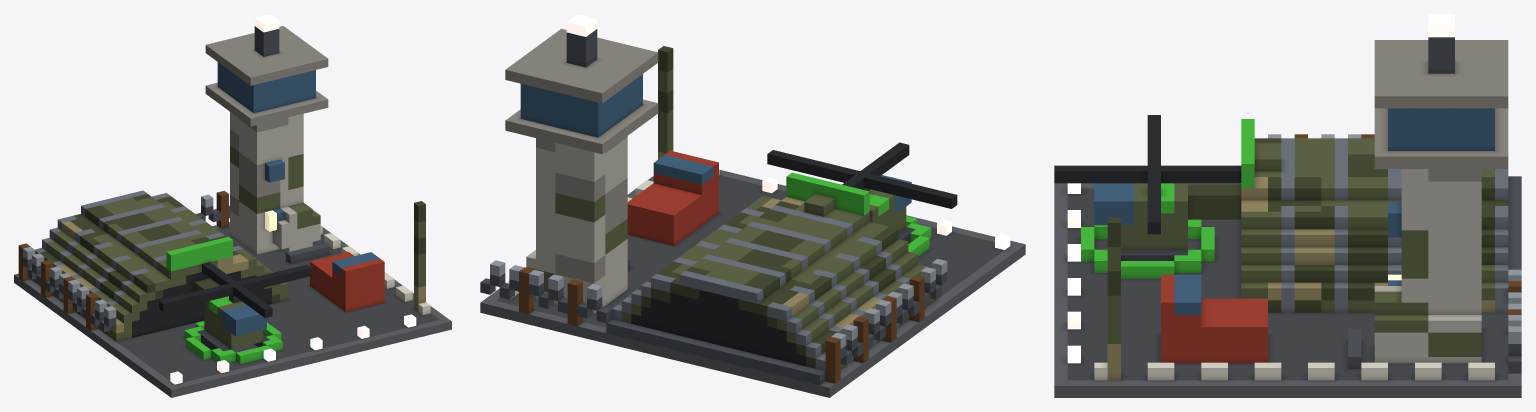
Rendered from cm_airfield_3.glb.
The picture shows the model from 3 angles, left to right: view 1: azimuth 30°, elevation 25°; view 2: azimuth 150°, elevation 25°; view 3: azimuth 270°, elevation 25°; orthographic projection. The views are drawn at different scales.
Parts seen in each view (by area): view 1: cm_airfield_3_body; view 2: cm_airfield_3_body; view 3: cm_airfield_3_body.
Part boxes in pixels (x1=…): cm_airfield_3_body: x1=14, y1=14, x2=451, y2=397; cm_airfield_3_body: x1=480, y1=14, x2=1025, y2=397; cm_airfield_3_body: x1=1054, y1=14, x2=1521, y2=397.
Size of the model in its own units: 2.25 by 1.75 by 2.19.
1 material, 1 textured.
